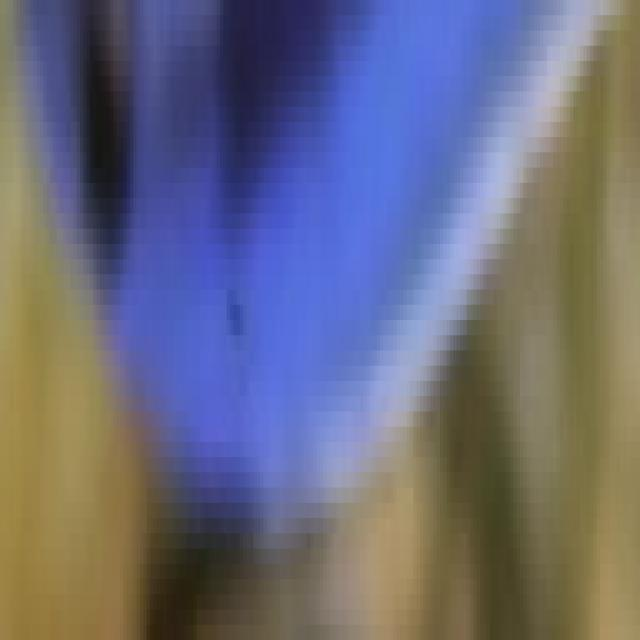fish: (0, 0, 637, 625)
